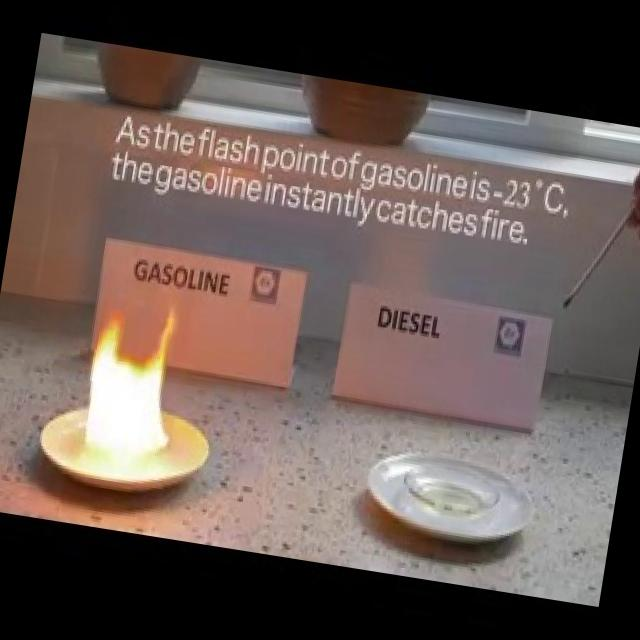Fire: (78, 290, 188, 473)
